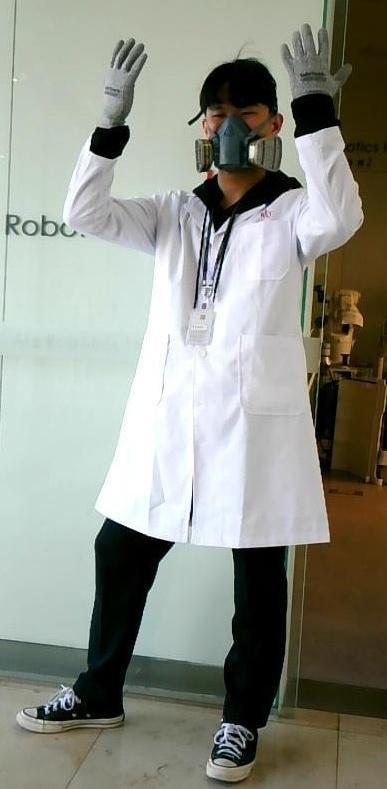lab_coat: (99, 172, 349, 542)
